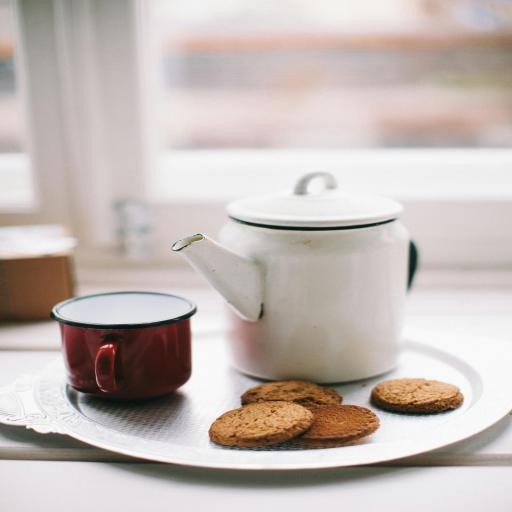cup: (53, 291, 197, 401)
